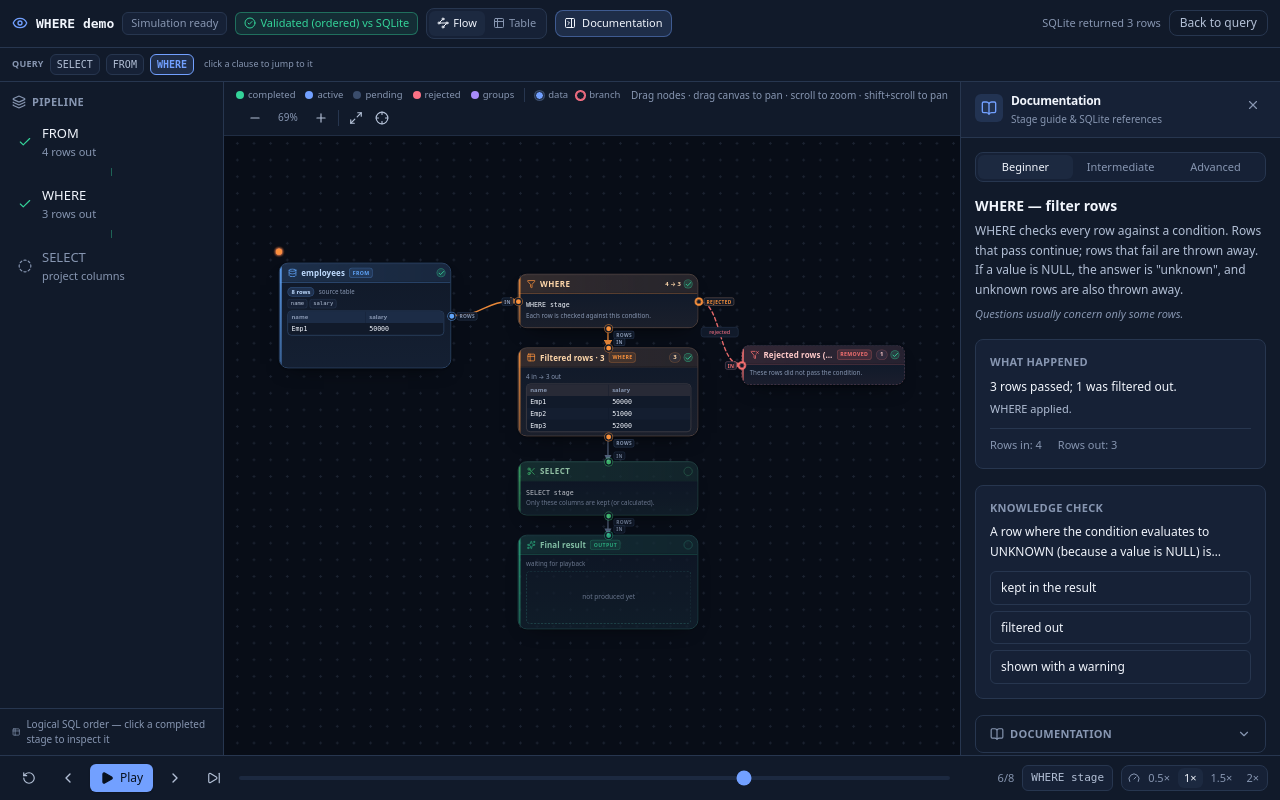
Test case: ready workspace › renders pipeline stages, the snapshot table and the validated badge
Expected: the text "Simulation ready" is shown, [122,12,228,34]
Expected: the text "Validated (ordered) vs SQLite" is shown, [236,12,418,34]
Note: Snapshot table details live in Table View.
Click the tab "Table" at point(514, 23), box [485,11,544,36]
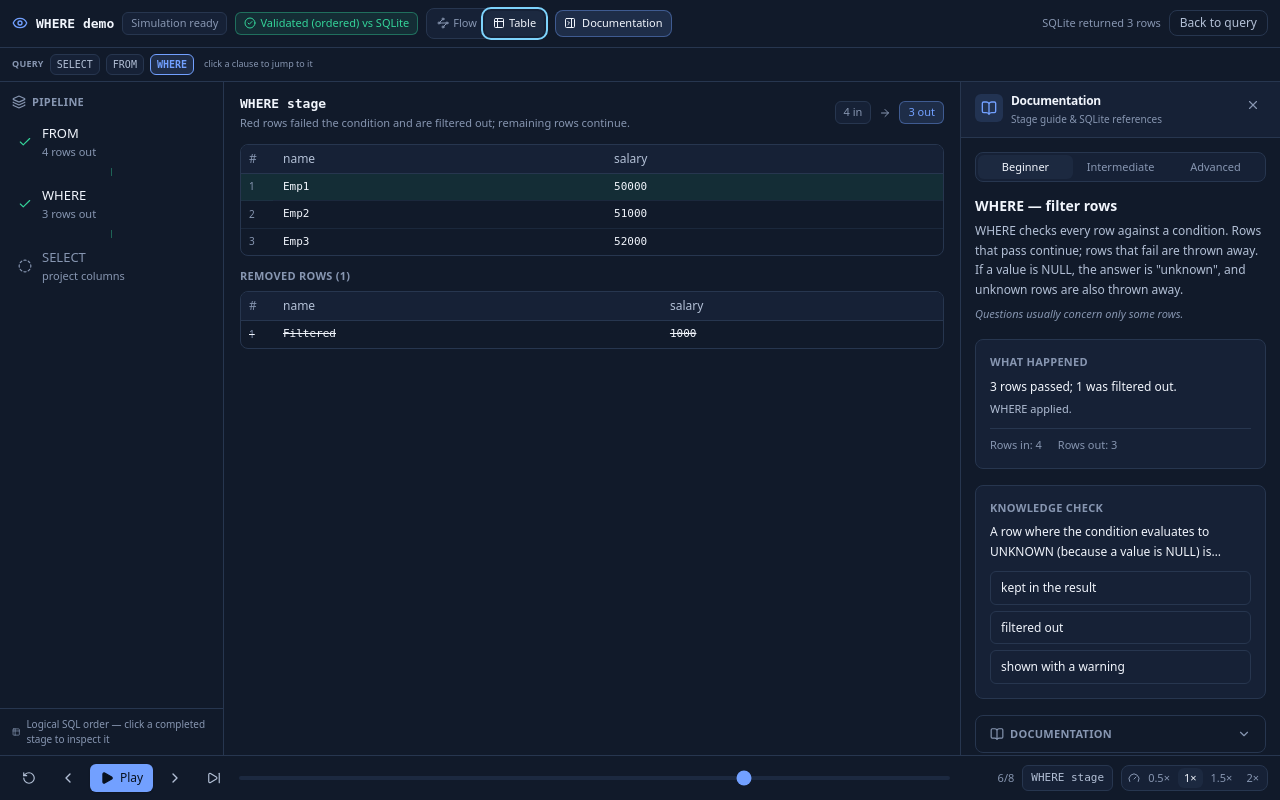
Expected: the text "Emp1" is shown, [273,173,604,201]
Now the heading "Removed rows (1)" is shown, box [240,268,350,284]
Now the text "Filtered" is shown, box [273,320,660,348]
